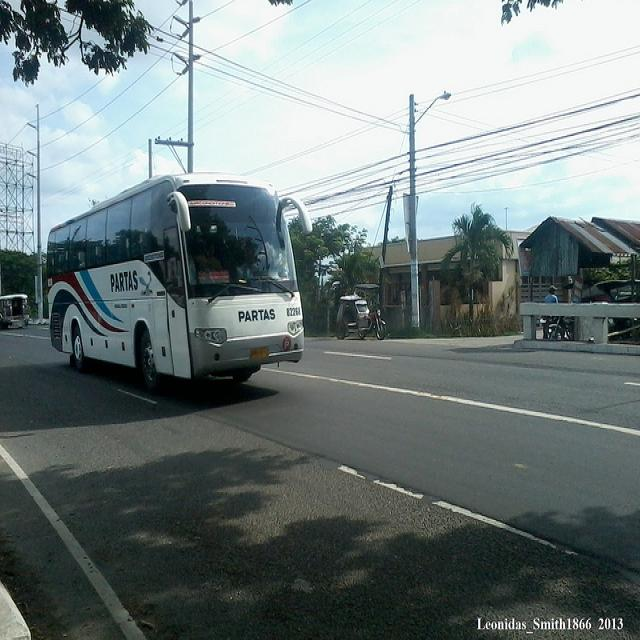motor: (367, 308, 387, 341), (549, 316, 574, 341), (542, 316, 556, 341)
